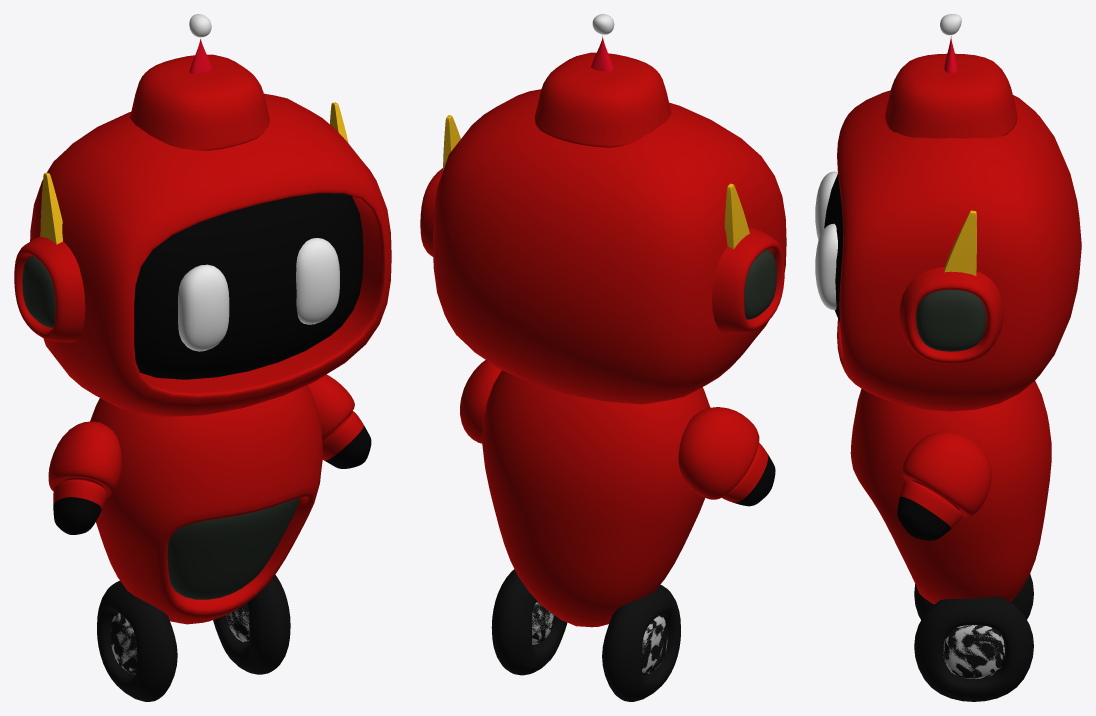
The model's file is Cutter Robot.fbx.
3 renders of one model, left to right at view 1: azimuth 30°, elevation 25°; view 2: azimuth 150°, elevation 25°; view 3: azimuth 270°, elevation 25°, orthographic. The views are drawn at different scales.
Visible parts, largest first — view 1: Head, Body, Wheels, Hat, Arms, Eyes, Ears, EarsPoint; view 2: Head, Body, Wheels, Hat, Arms, Ears, EarsPoint; view 3: Head, Body, Wheels, Hat, Ears, Arms, Eyes, EarsPoint.
Boxes of the visible parts, x1,y1,x2,y2 form: Head: [30, 93, 391, 416]; Body: [90, 385, 322, 624]; Wheels: [97, 574, 290, 701]; Hat: [129, 54, 269, 150]; Arms: [48, 374, 371, 534]; Eyes: [178, 238, 339, 351]; Ears: [14, 236, 85, 342]; EarsPoint: [40, 102, 348, 244]; Head: [433, 89, 786, 404]; Body: [482, 370, 710, 627]; Wheels: [491, 569, 680, 701]; Hat: [534, 52, 671, 147]; Arms: [460, 360, 775, 506]; Ears: [420, 168, 784, 333]; EarsPoint: [443, 115, 749, 249]; Head: [824, 90, 1081, 411]; Body: [850, 380, 1051, 604]; Wheels: [914, 574, 1033, 701]; Hat: [885, 53, 1017, 138]; Ears: [899, 267, 1003, 363]; Arms: [897, 431, 991, 540]; Eyes: [815, 171, 837, 309]; EarsPoint: [944, 210, 976, 275].
Size of the model in its own units: 202 by 392 by 144.
